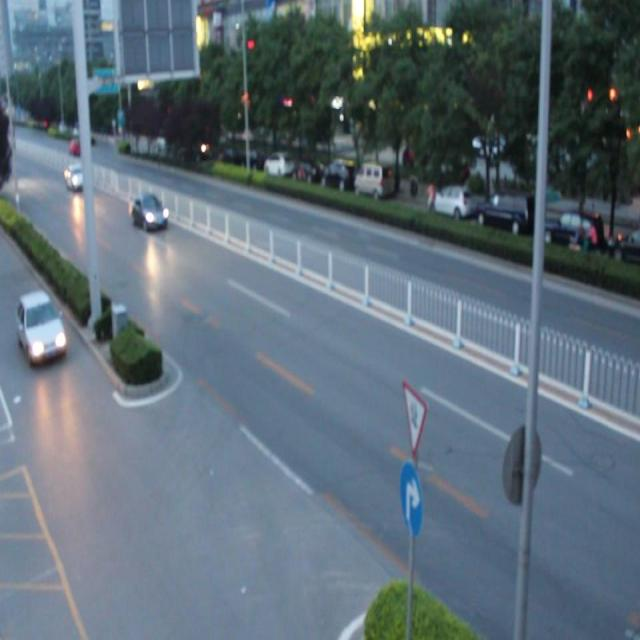car: (16, 290, 67, 363), (131, 192, 168, 231), (64, 161, 88, 192)
